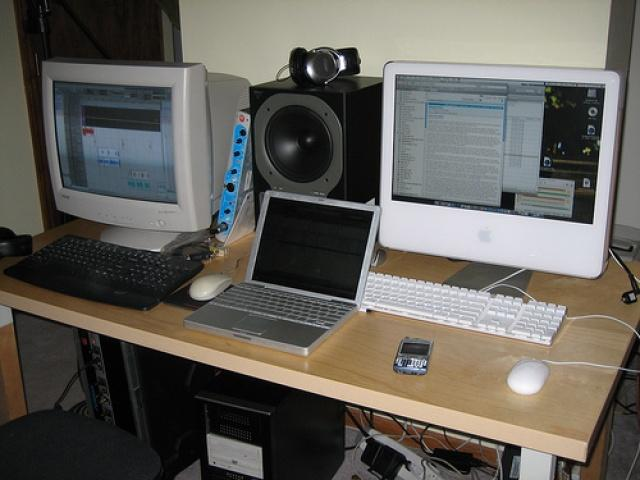AIO PC-Monitor-TV: (376, 58, 625, 281)
